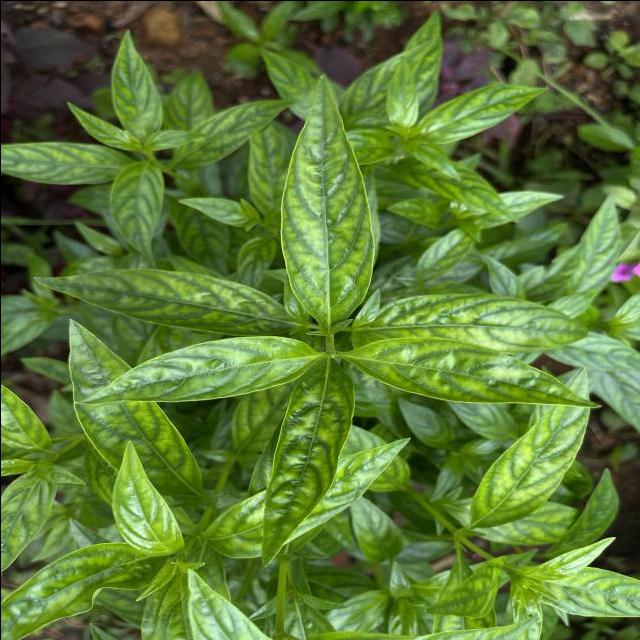Andrographis paniculata: (273, 69, 377, 327), (64, 317, 206, 499), (256, 355, 356, 570), (464, 364, 590, 530), (346, 332, 597, 412), (74, 331, 320, 411), (29, 266, 300, 336), (173, 94, 296, 168), (110, 438, 184, 558), (391, 155, 518, 222), (423, 80, 548, 144), (0, 139, 132, 188), (107, 28, 164, 138), (108, 158, 166, 262), (176, 194, 262, 232)
